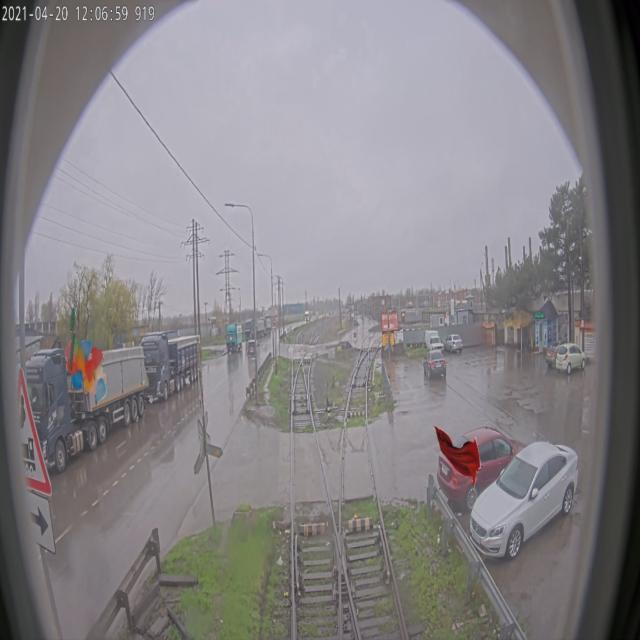balloon: (64, 338, 108, 402)
floating object: (432, 425, 481, 489), (69, 306, 75, 371)
